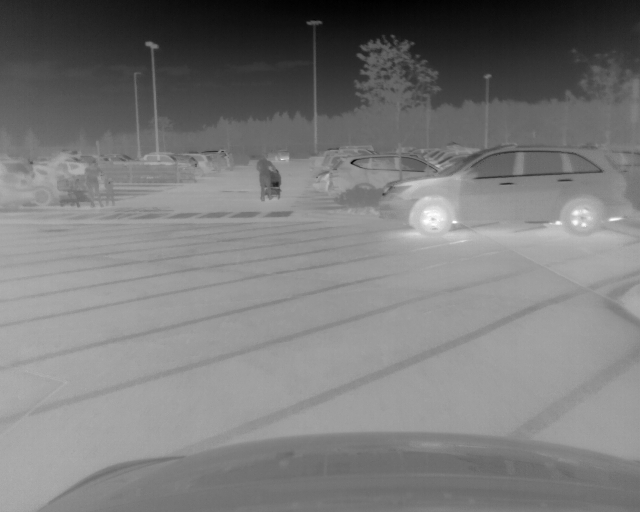car: (378, 145, 635, 233), (329, 153, 445, 202), (1, 156, 36, 213), (34, 164, 75, 205), (139, 153, 196, 172), (209, 151, 235, 172), (190, 154, 213, 177), (267, 149, 291, 162)
people: (257, 155, 277, 203), (85, 161, 104, 207), (101, 160, 117, 206)
